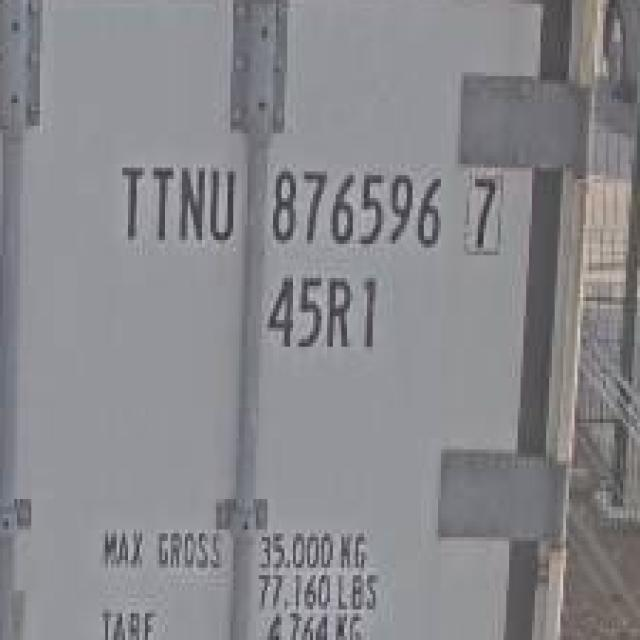dv: (460, 163, 510, 257)
owner: (115, 156, 242, 253)
serial: (263, 156, 443, 253)
size: (260, 263, 396, 353)
